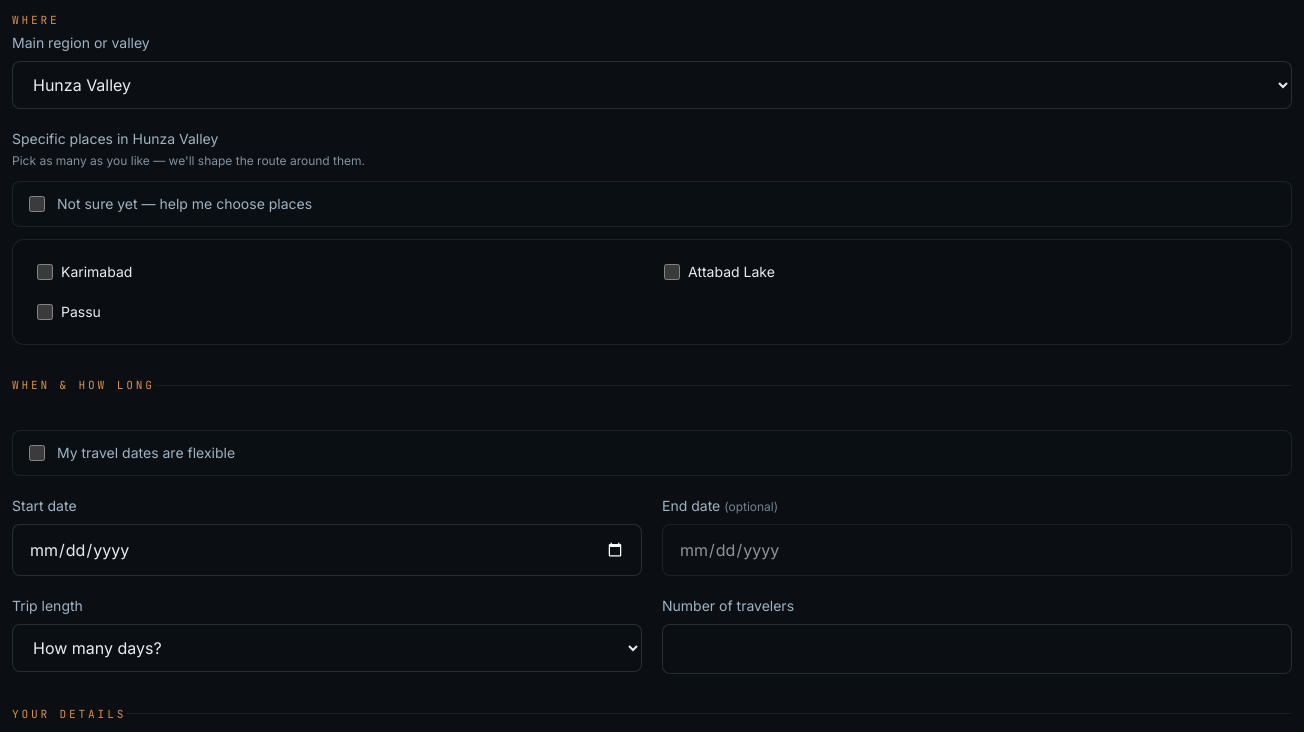
Test: ContactForm › hides place checkboxes when the traveler asks for suggestions
Click the checkbox labelled "Not sure yet — help me choose places" at point(37, 204), box [29,196,45,212]
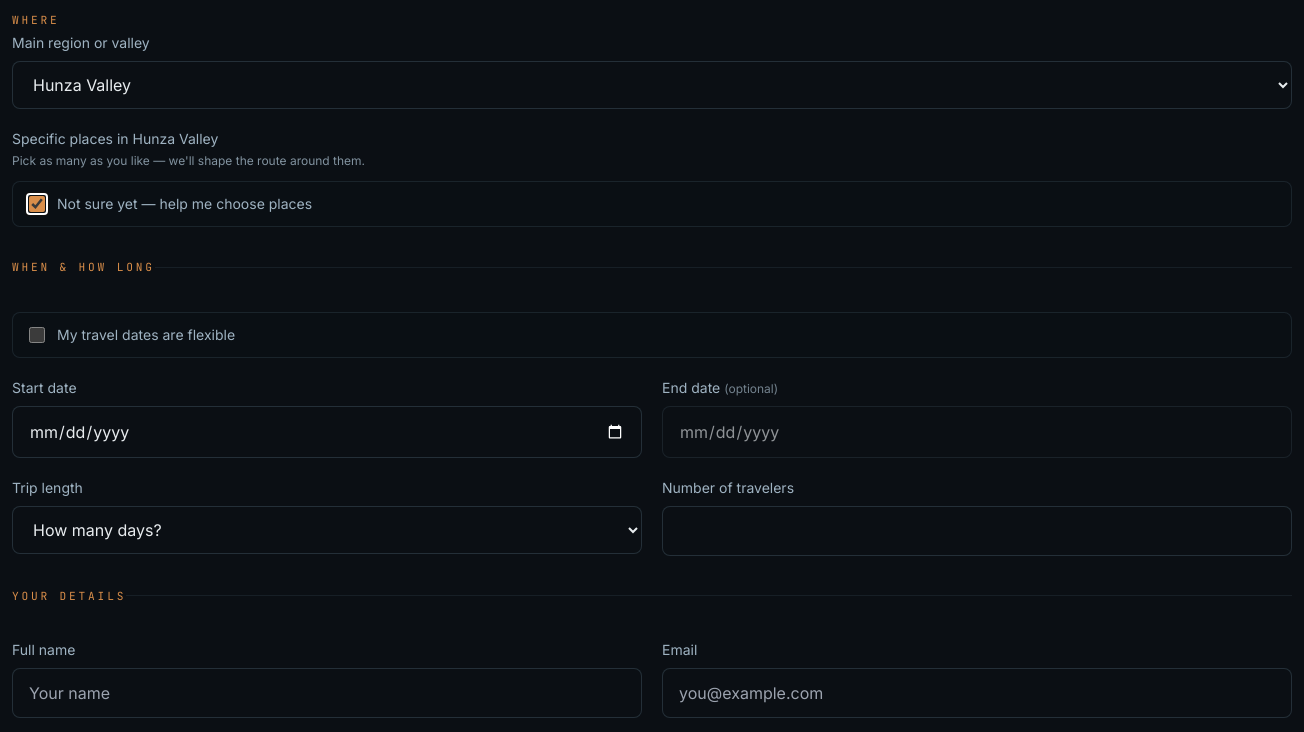
Expected: the text labelled "Karimabad" is gone
